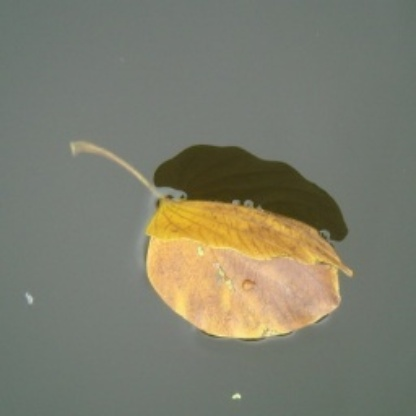leaf: (72, 141, 355, 341)
